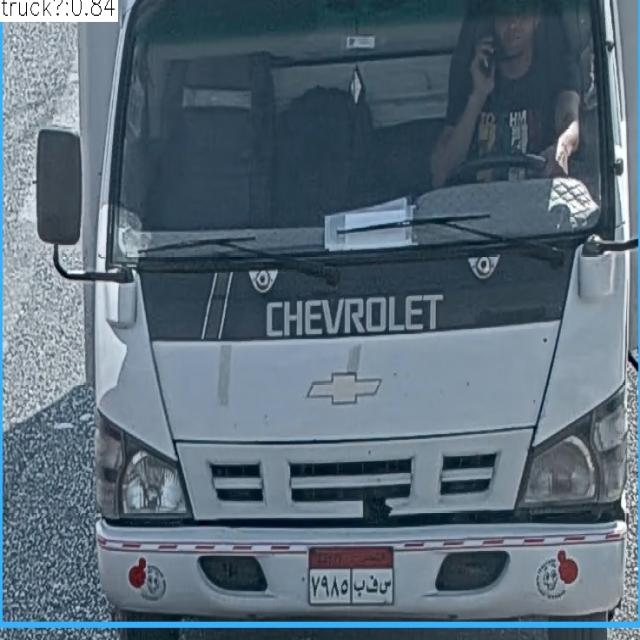windshield: (117, 0, 615, 254)
